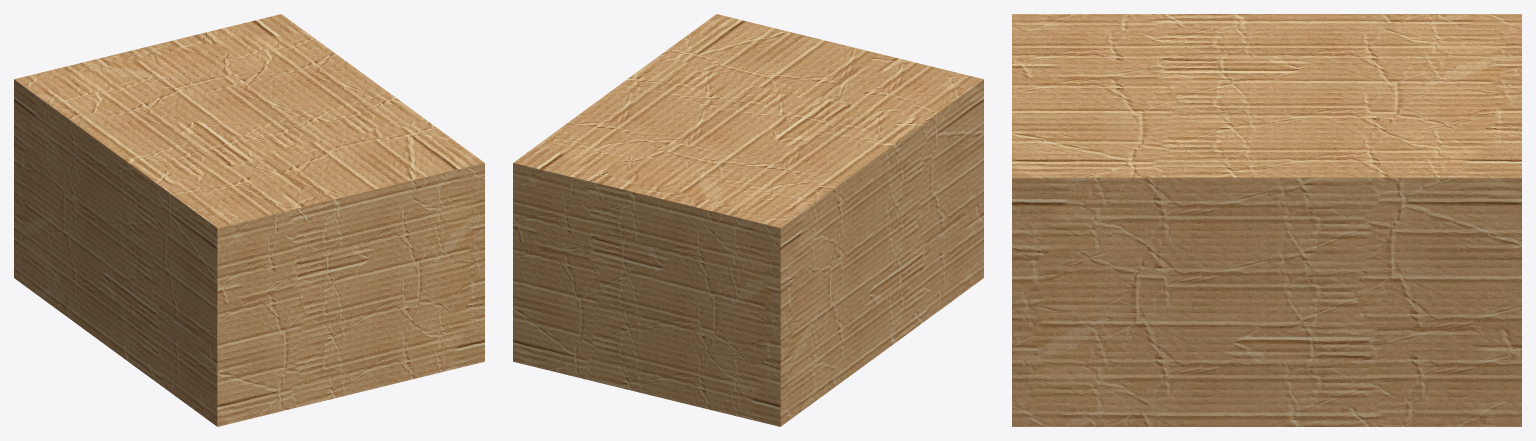
Rendered from cardboardbox.fbx.
3 renders of one model, left to right at view 1: azimuth 30°, elevation 25°; view 2: azimuth 150°, elevation 25°; view 3: azimuth 270°, elevation 25°, orthographic. The views are drawn at different scales.
Visible parts, largest first — view 1: cardboardbox; view 2: cardboardbox; view 3: cardboardbox.
Part boxes in pixels (x1,y1,x2,y2): cardboardbox: (14, 14, 484, 426); cardboardbox: (513, 14, 983, 426); cardboardbox: (1012, 14, 1521, 426).
Size of the model in its own units: 88.18 by 62.7 by 116.
Materials: 1 (1 with a texture image).
